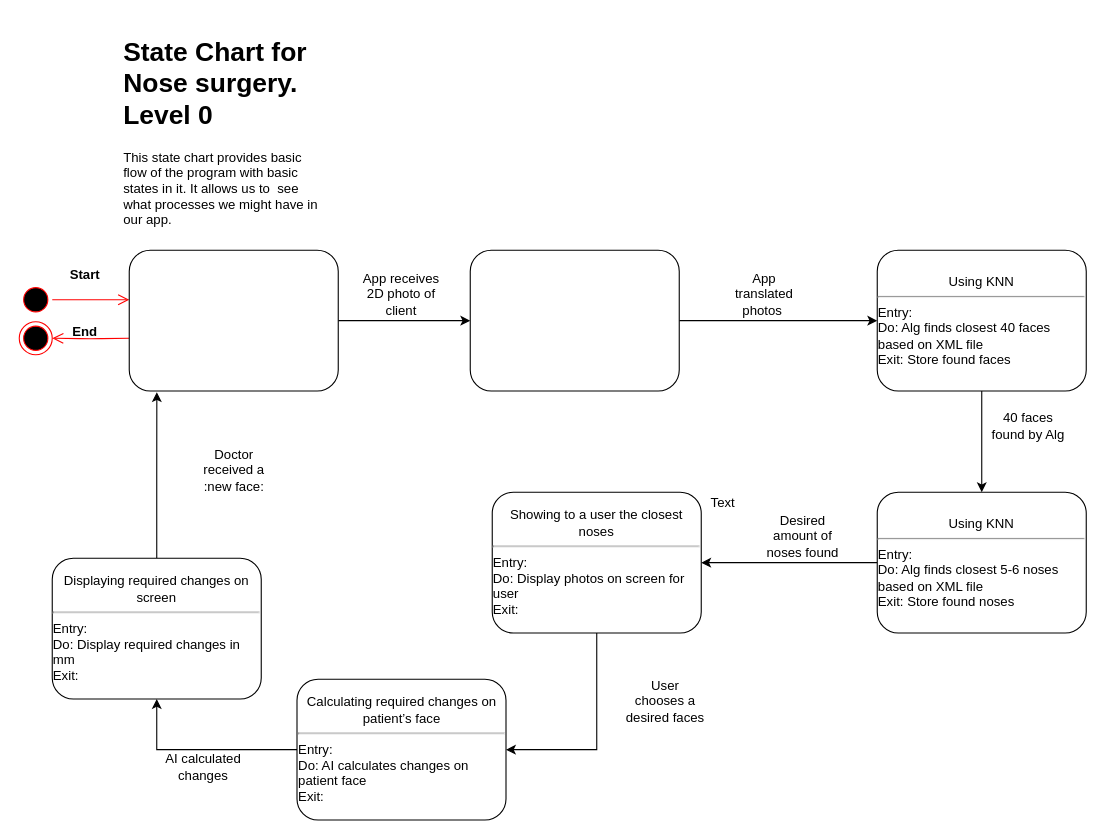
Some shapes in this 1106 by 839 pixel diagram are drawn without their labels. The shapes that lost their labels are listed below. From the top down, each one's centre as x and y in pixels, then its label:
At point 233,320: "Waiting for the command Entry: Do: Exit".
At point 574,320: "Translating 2D photo into XML Entry: Do: App process 2D photo Exit".
